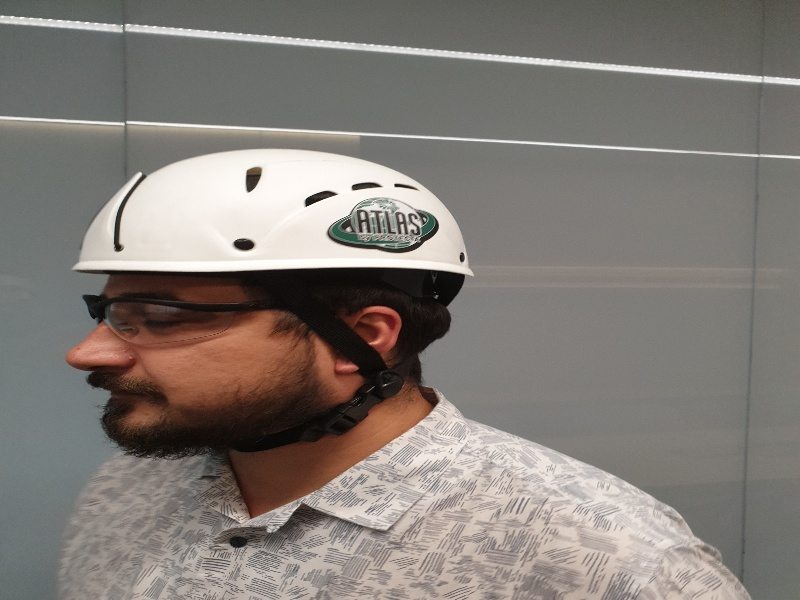Baret: (75, 147, 481, 269)
Gozluk: (84, 293, 312, 338)
